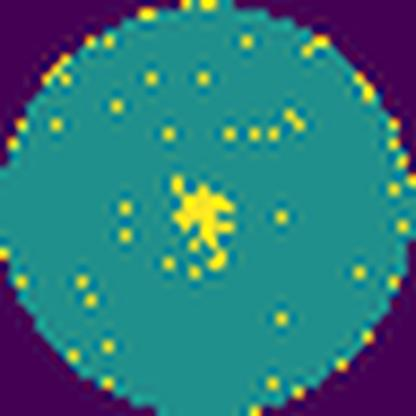Center: (173, 176, 235, 252)
